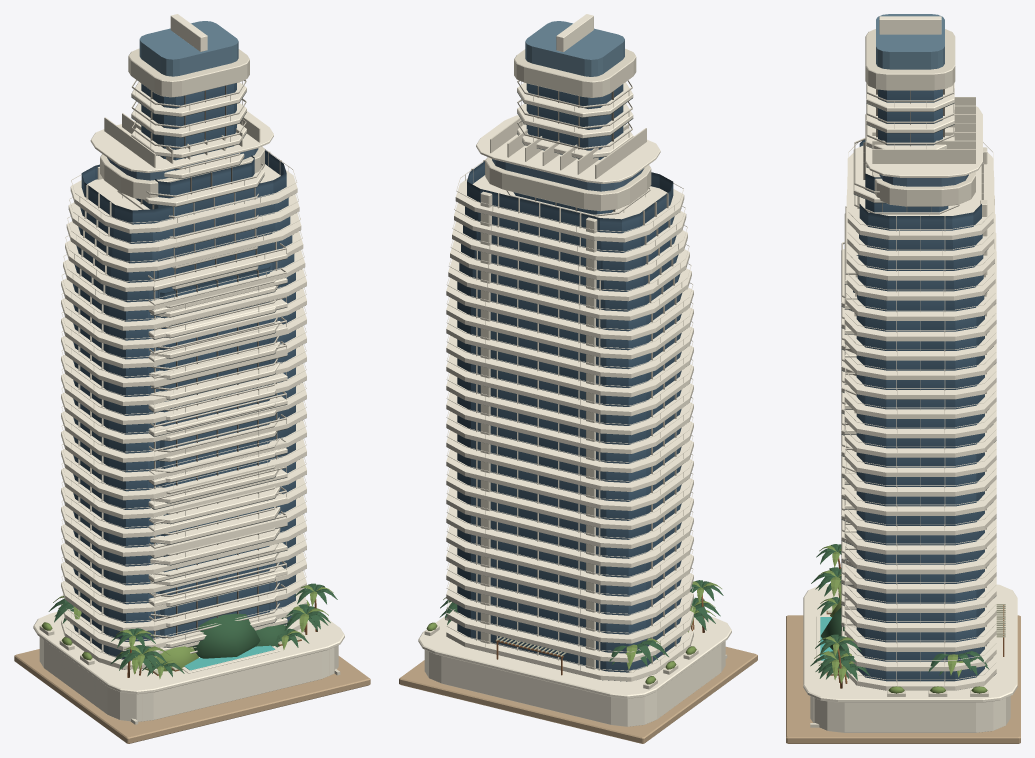
Rendered from waterfront-v1.glb.
The picture shows the model from 3 angles, left to right: view 1: azimuth 30°, elevation 25°; view 2: azimuth 150°, elevation 25°; view 3: azimuth 270°, elevation 25°; orthographic projection. The views are drawn at different scales.
Parts seen in each view (by area): view 1: MarinaHotel_porcelain, SkylineTower_porcelain, MarinaHotel_deep_glass, SkylineFar_porcelain, SkylineTower_deep_glass, SkylineTower_ivory, MarinaHotel_sandstone, MarinaHotel_ivory, SkylineTower_lagoon_glass, CanopyCluster_palm_green, SkylineFar_deep_glass, SkylineFar_ivory (+4 smaller); view 2: MarinaHotel_porcelain, MarinaHotel_deep_glass, MarinaHotel_ivory, SkylineTower_porcelain, MarinaHotel_sandstone, SkylineTower_lagoon_glass, SkylineTower_ivory, SkylineTower_deep_glass, WaterfrontResidence_palm_green; view 3: MarinaHotel_porcelain, MarinaHotel_deep_glass, SkylineTower_porcelain, MarinaHotel_ivory, MarinaHotel_sandstone, SkylineTower_ivory, SkylineTower_deep_glass, SkylineTower_lagoon_glass, SkylineFar_porcelain, WaterfrontClub_palm_green, WaterfrontResidence_palm_green, MarinaHotel_sunlit_leaf (+3 smaller).
Boxes of the visible parts, x1,y1,x2,y2 form: MarinaHotel_porcelain: (33, 111, 344, 721); SkylineTower_porcelain: (117, 14, 280, 657); MarinaHotel_deep_glass: (73, 148, 295, 660); SkylineFar_porcelain: (148, 243, 287, 655); SkylineTower_deep_glass: (135, 83, 270, 638); SkylineTower_ivory: (128, 48, 279, 647); MarinaHotel_sandstone: (14, 649, 370, 743); MarinaHotel_ivory: (39, 113, 329, 721); SkylineTower_lagoon_glass: (139, 21, 238, 76); CanopyCluster_palm_green: (193, 613, 290, 658); SkylineFar_deep_glass: (157, 232, 272, 610); SkylineFar_ivory: (149, 236, 287, 655); MarinaHotel_porcelain: (418, 115, 731, 726); MarinaHotel_deep_glass: (457, 159, 682, 672); MarinaHotel_ivory: (424, 117, 698, 689); SkylineTower_porcelain: (506, 14, 650, 216); MarinaHotel_sandstone: (399, 646, 757, 743); SkylineTower_lagoon_glass: (525, 21, 624, 76); SkylineTower_ivory: (514, 48, 636, 211); SkylineTower_deep_glass: (513, 83, 623, 214); WaterfrontResidence_palm_green: (440, 600, 715, 662); MarinaHotel_porcelain: (803, 106, 1017, 732); MarinaHotel_deep_glass: (856, 140, 984, 681); SkylineTower_porcelain: (841, 16, 959, 636); MarinaHotel_ivory: (813, 97, 996, 722); MarinaHotel_sandstone: (786, 615, 1020, 743); SkylineTower_ivory: (841, 29, 955, 647); SkylineTower_deep_glass: (853, 89, 948, 292); SkylineTower_lagoon_glass: (876, 14, 944, 69); SkylineFar_porcelain: (844, 206, 949, 648); WaterfrontClub_palm_green: (810, 567, 989, 675); WaterfrontResidence_palm_green: (815, 580, 987, 680); MarinaHotel_sunlit_leaf: (818, 545, 987, 693).
Bounding box in the file's own units: 42 × 106 × 34.
